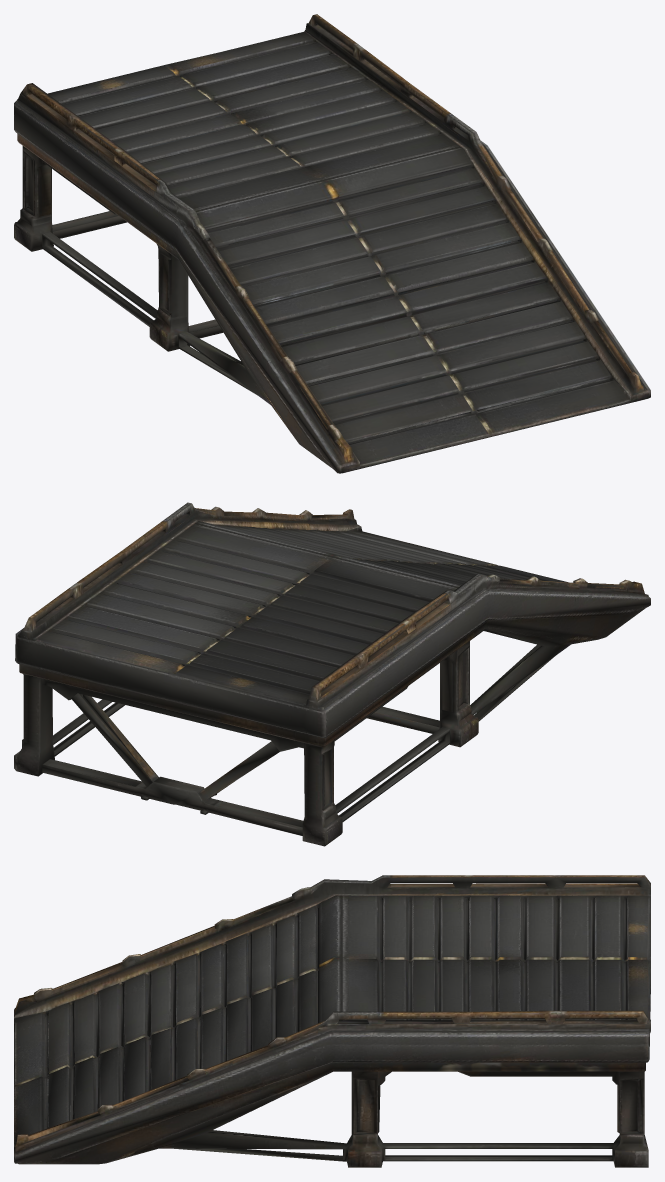
File: selected.glb
3 renders of one model, top to bottom at view 1: azimuth 30°, elevation 25°; view 2: azimuth 150°, elevation 25°; view 3: azimuth 270°, elevation 25°, orthographic. The views are drawn at different scales.
Parts seen in each view (by area): view 1: tripo_node_a0bb06d7-6ea6-45c4-8b70-a44352d36738; view 2: tripo_node_a0bb06d7-6ea6-45c4-8b70-a44352d36738; view 3: tripo_node_a0bb06d7-6ea6-45c4-8b70-a44352d36738.
Boxes of the visible parts, box(x1,y1,x2,y2) form: tripo_node_a0bb06d7-6ea6-45c4-8b70-a44352d36738: box(14, 14, 650, 473); tripo_node_a0bb06d7-6ea6-45c4-8b70-a44352d36738: box(14, 502, 650, 846); tripo_node_a0bb06d7-6ea6-45c4-8b70-a44352d36738: box(14, 875, 650, 1167).
Bounding box in the file's own units: 0.5527 × 0.2598 × 0.998.
Materials: 1 (1 with a texture image).
